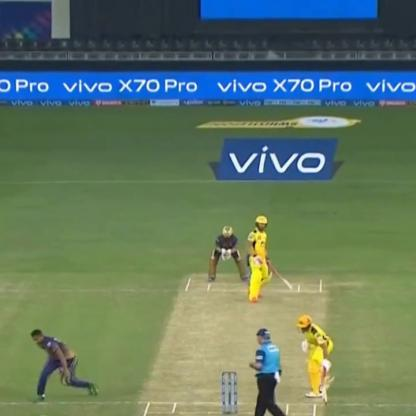pitch: (134, 262, 331, 416)
